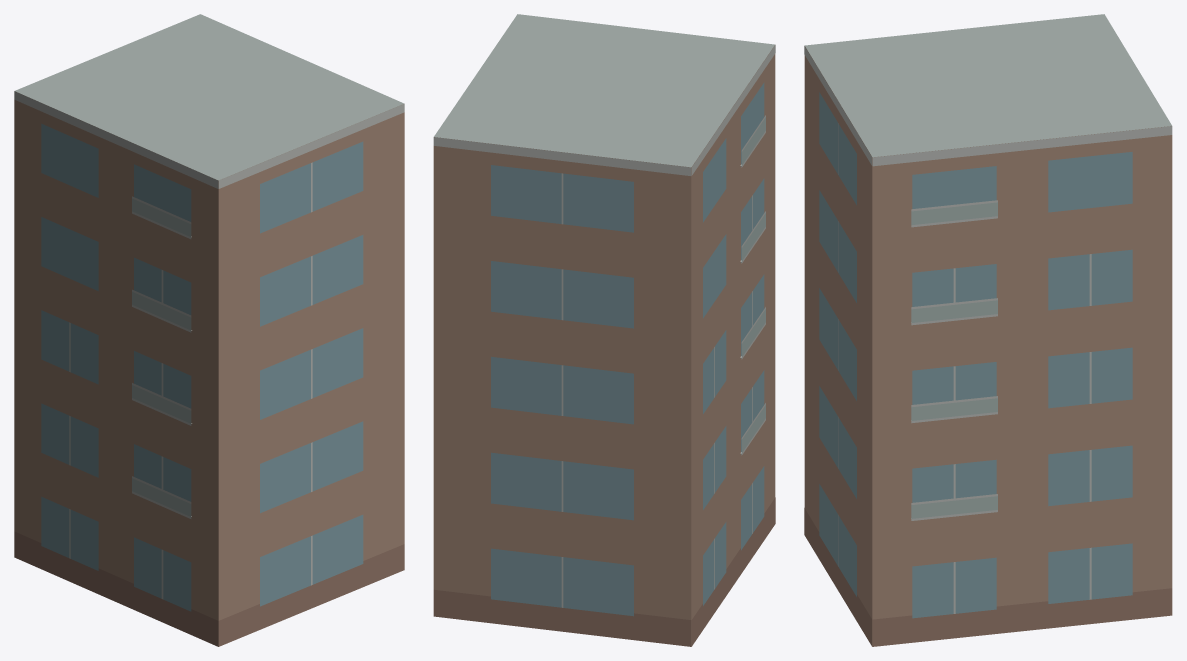
The model's file is survey-upis-32561274.glb.
3 renders of one model, left to right at view 1: azimuth 30°, elevation 25°; view 2: azimuth 150°, elevation 25°; view 3: azimuth 270°, elevation 25°, orthographic. The views are drawn at different scales.
Parts seen in each view (by area): view 1: survey-upis-32561274.tmp; view 2: survey-upis-32561274.tmp; view 3: survey-upis-32561274.tmp.
Boxes of the visible parts, x1,y1,x2,y2 form: survey-upis-32561274.tmp: (14, 14, 404, 646); survey-upis-32561274.tmp: (433, 14, 775, 646); survey-upis-32561274.tmp: (804, 14, 1172, 646).
Bounding box in the file's own units: 8.3 × 13.2 × 9.
